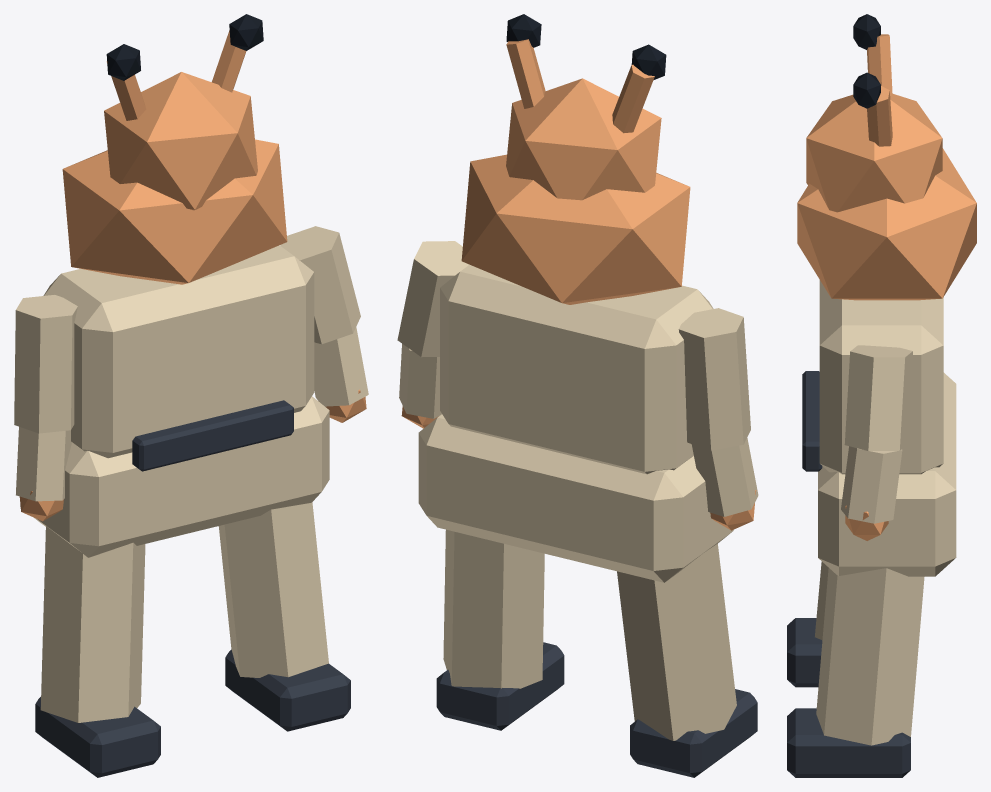
The model's file is npcs_035_seed11.glb.
3 views of the same model, side by side, from view 1: azimuth 30°, elevation 25°; view 2: azimuth 150°, elevation 25°; view 3: azimuth 270°, elevation 25° (orthographic). The views are drawn at different scales.
Visible parts, largest first — view 1: npcs_035_seed11; view 2: npcs_035_seed11; view 3: npcs_035_seed11.
Part boxes in pixels (<box>): npcs_035_seed11: <box>14,14,368,777</box>; npcs_035_seed11: <box>397,14,758,777</box>; npcs_035_seed11: <box>787,14,976,777</box>.
Size of the model in its own units: 1.08 by 2.06 by 0.5238.
